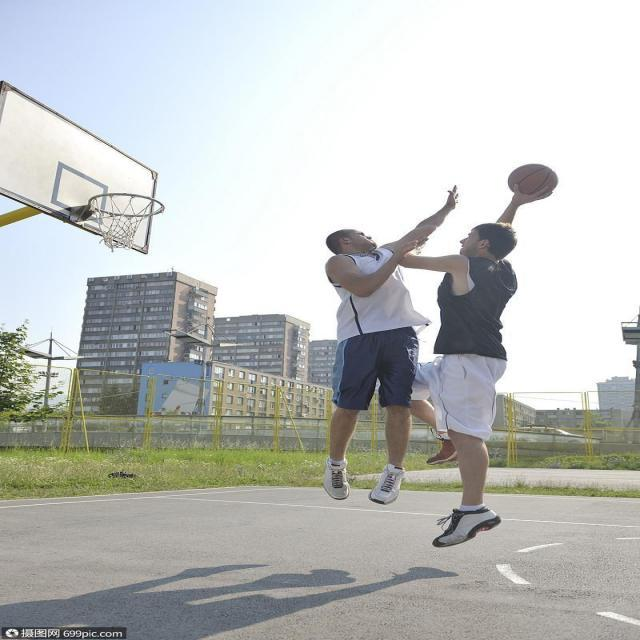rim: (510, 162, 562, 198)
